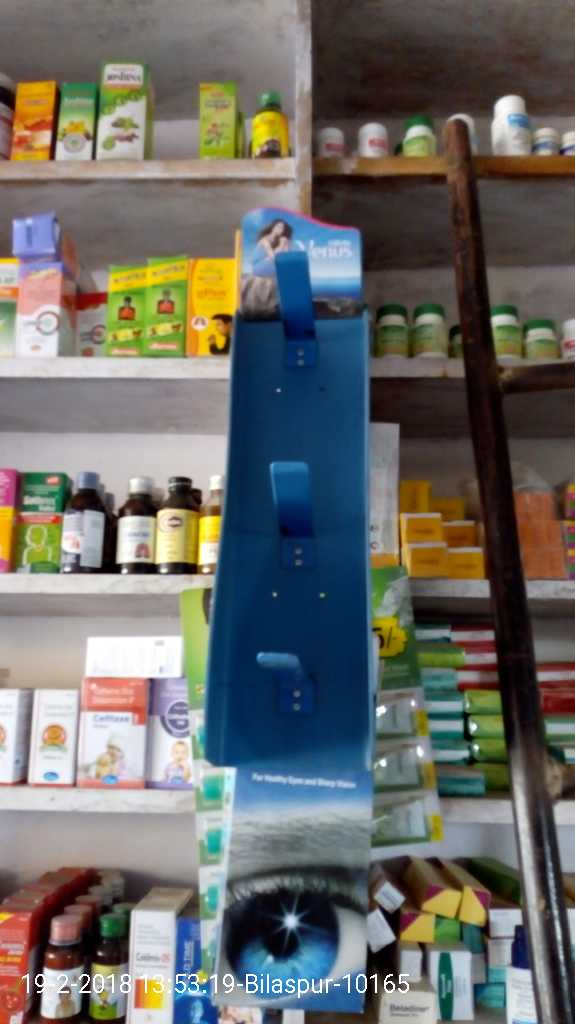reject: (181, 412, 272, 570)
